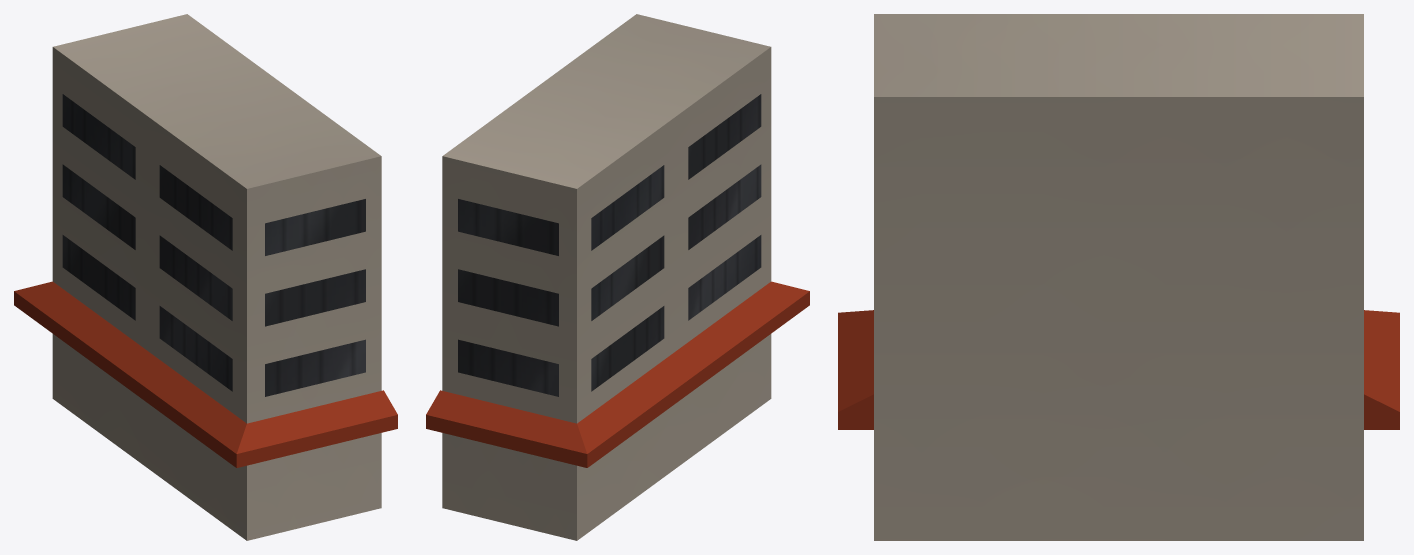
The model's file is Bld_Building_I_low.fbx.
3 views of the same model, side by side, from view 1: azimuth 30°, elevation 25°; view 2: azimuth 150°, elevation 25°; view 3: azimuth 270°, elevation 25° (orthographic). The views are drawn at different scales.
Parts seen in each view (by area): view 1: Bld_Building_I_low; view 2: Bld_Building_I_low; view 3: Bld_Building_I_low.
Part boxes in pixels (x1=…): Bld_Building_I_low: x1=14, y1=14, x2=397, y2=540; Bld_Building_I_low: x1=426, y1=14, x2=809, y2=540; Bld_Building_I_low: x1=838, y1=14, x2=1399, y2=540.
Bounding box in the file's own units: 720 × 1500 × 1719.
